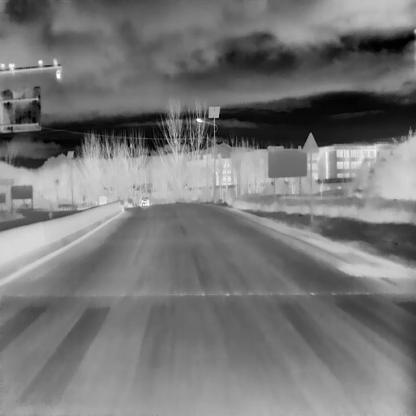car: (138, 196, 149, 206)
